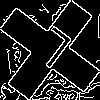L: (25, 25, 75, 78)
